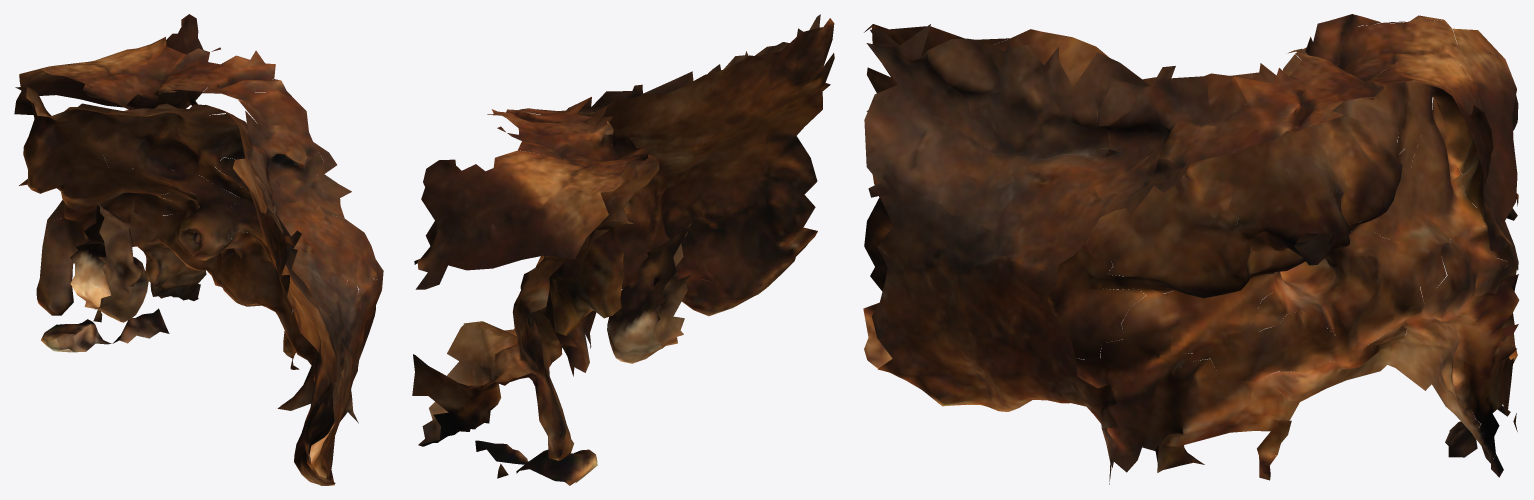
File: Triceratops_Occiput.fbx
The picture shows the model from 3 angles, left to right: view 1: azimuth 30°, elevation 25°; view 2: azimuth 150°, elevation 25°; view 3: azimuth 270°, elevation 25°; orthographic projection. The views are drawn at different scales.
Parts seen in each view (by area): view 1: Triceratops_Occiput; view 2: Triceratops_Occiput; view 3: Triceratops_Occiput.
Part boxes in pixels (bbox=[...]): Triceratops_Occiput: bbox=[14, 14, 383, 485]; Triceratops_Occiput: bbox=[412, 14, 834, 485]; Triceratops_Occiput: bbox=[863, 14, 1519, 484].
Size of the model in its own units: 0.0998 by 0.1498 by 0.2399.
1 material, 1 textured.
